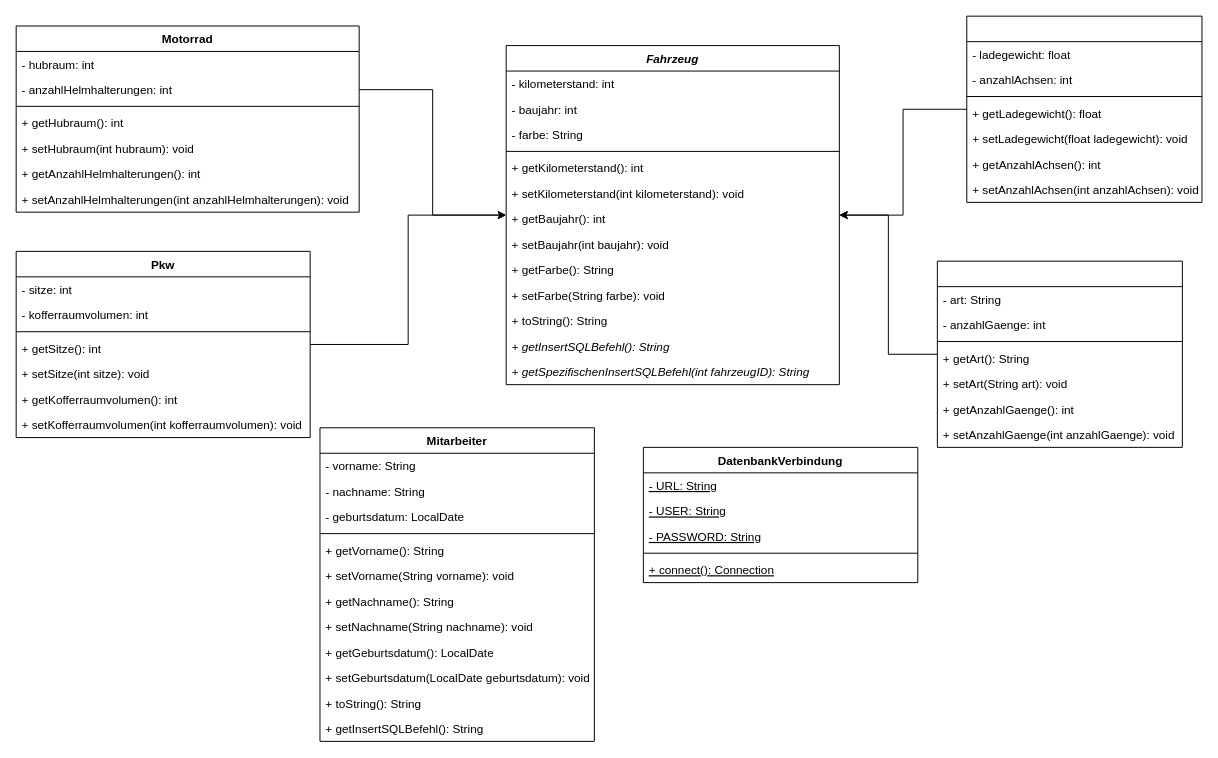
Some shapes in this 1218 by 758 pixel diagram are drawn without their labels. Each missing label, with the box of its shape:
Fahrrad: (936, 260, 1182, 447)
Lkw: (966, 15, 1202, 202)
